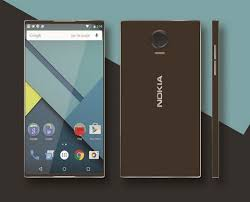nokia: (20, 18, 107, 181), (120, 15, 204, 182)
